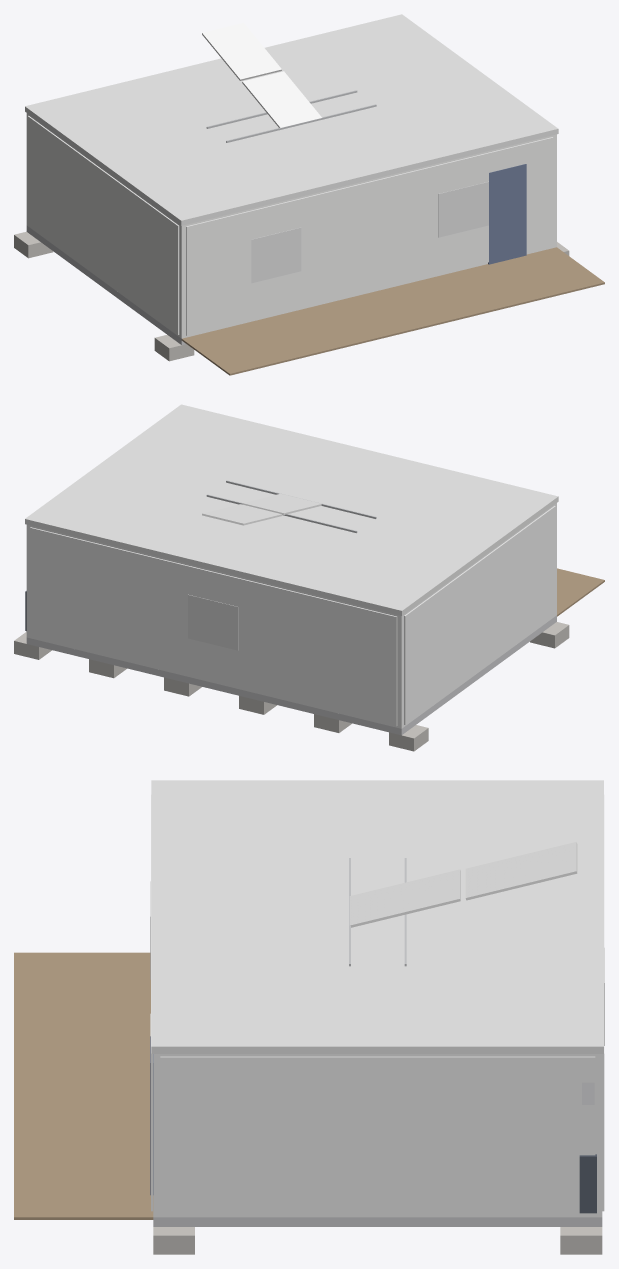
File: Studio-30-FullSolar+TerraceDeck-LOD0.glb
3 views of the same model, one above another, from view 1: azimuth 30°, elevation 25°; view 2: azimuth 150°, elevation 25°; view 3: azimuth 270°, elevation 25° (orthographic). The views are drawn at different scales.
Parts seen in each view (by area): view 1: RoofMain, ExteriorPanelsStandard, TerraceDeck, SolarPanelArray, WindowsStandard, ExteriorShell, EntryDoor, FoundationBlocks, BaseFrame, SolarMountingHardware; view 2: RoofMain, ExteriorPanelsStandard, BaseFrame, FoundationBlocks, ExteriorShell, WindowsStandard, SolarPanelArray, TerraceDeck, SolarMountingHardware; view 3: RoofMain, ExteriorPanelsStandard, TerraceDeck, SolarPanelArray, ExteriorShell, BaseFrame, FoundationBlocks, SolarBattery.
Part boxes in pixels (x1,y1,x2,y2): RoofMain: (25,14,558,225); ExteriorPanelsStandard: (27,115,553,335); TerraceDeck: (181,247,604,375); SolarPanelArray: (202,22,321,127); WindowsStandard: (251,181,488,283); ExteriorShell: (26,113,556,338); EntryDoor: (488,164,526,264); FoundationBlocks: (14,231,569,361); BaseFrame: (26,225,185,344); SolarMountingHardware: (206,90,376,142); RoofMain: (25,404,558,615); ExteriorPanelsStandard: (30,506,555,726); BaseFrame: (26,615,556,735); FoundationBlocks: (14,622,569,751); ExteriorShell: (26,503,556,728); WindowsStandard: (188,594,238,650); SolarPanelArray: (202,493,321,525); TerraceDeck: (557,568,604,616); SolarMountingHardware: (206,480,376,533); RoofMain: (151,780,603,1053); ExteriorPanelsStandard: (151,795,604,1215); TerraceDeck: (14,952,153,1219); SolarPanelArray: (349,842,577,927); ExteriorShell: (153,1054,602,1217); BaseFrame: (153,1217,602,1226); FoundationBlocks: (153,1227,602,1254); SolarBattery: (579,1154,596,1213).
Size of the model in its own units: 9.6 by 4.07 by 8.49.
